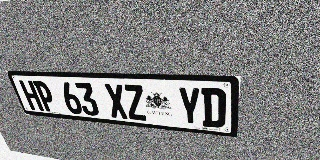3: (74, 82, 100, 116)
6: (58, 82, 84, 115)
D: (201, 88, 226, 128)
H: (19, 80, 44, 111)
P: (32, 81, 58, 112)
X: (103, 84, 129, 119)
Y: (177, 87, 201, 126)
Z: (122, 84, 148, 121)
